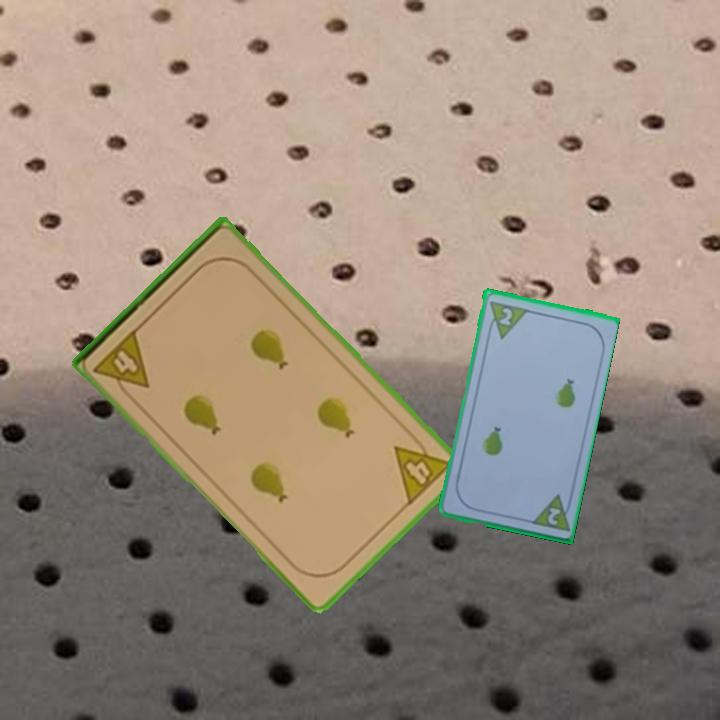2p: (526, 490, 575, 534), (495, 304, 515, 328)
4p: (390, 428, 455, 509), (89, 325, 153, 404)
